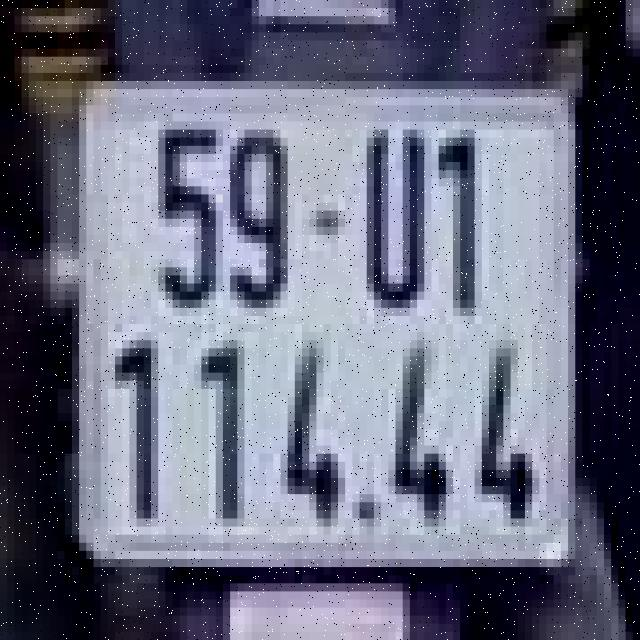1: (184, 324, 262, 543), (100, 324, 172, 551), (439, 122, 489, 324)
4: (381, 324, 460, 543), (468, 328, 546, 531), (274, 344, 352, 531)
5: (144, 105, 230, 316)
9: (223, 117, 302, 320)
U: (342, 113, 435, 316)
